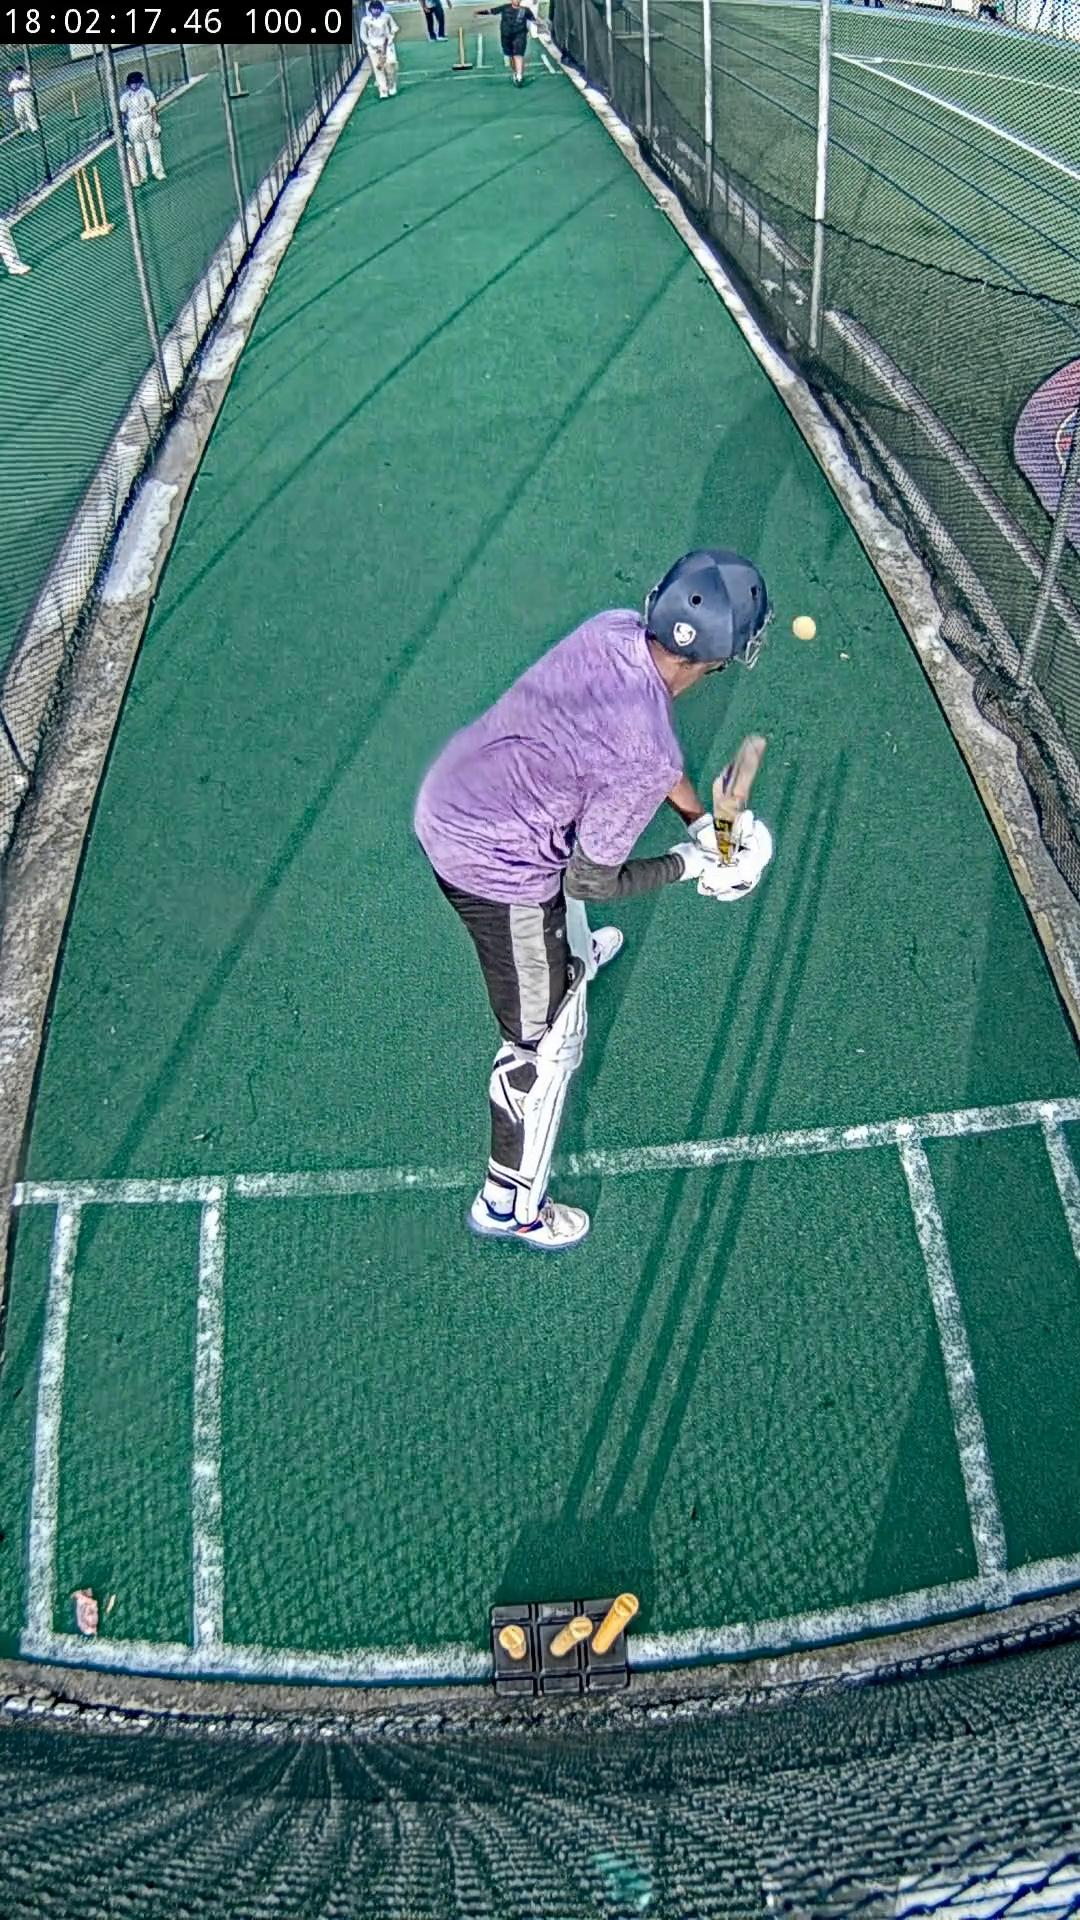ball: (791, 615, 818, 641)
bat: (712, 735, 765, 861)
gloves: (671, 810, 773, 899)
helmet: (641, 547, 773, 667)
pads: (514, 975, 588, 1226), (564, 897, 596, 977)
stumps: (492, 1594, 637, 1695)
